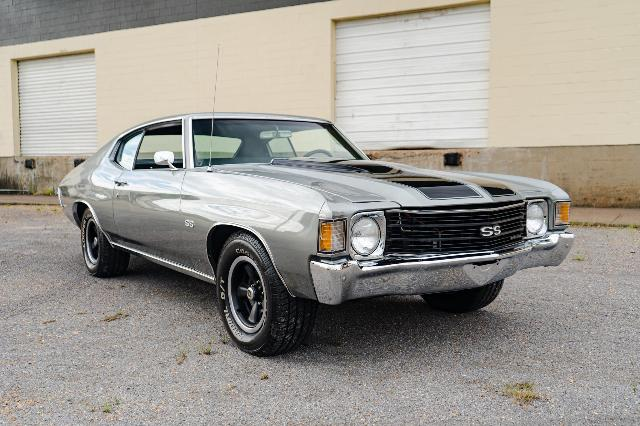chevelle-1972: (59, 113, 574, 357)
